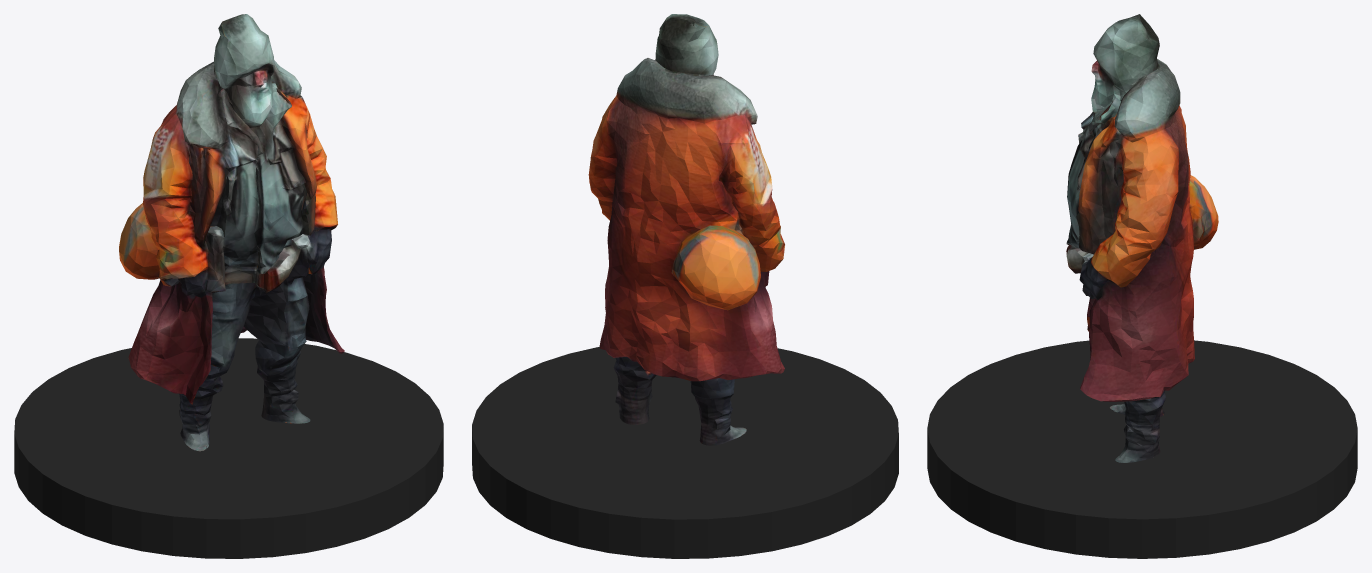
The model's file is rod-miller.glb.
The picture shows the model from 3 angles, left to right: view 1: azimuth 30°, elevation 25°; view 2: azimuth 150°, elevation 25°; view 3: azimuth 270°, elevation 25°; orthographic projection.
Visible parts, largest first — view 1: base, figure; view 2: base, figure; view 3: base, figure.
Part boxes in pixels (bbox=[...]): base: bbox=[14, 338, 443, 558]; figure: bbox=[119, 14, 344, 451]; base: bbox=[472, 347, 898, 558]; figure: bbox=[588, 14, 784, 445]; base: bbox=[927, 340, 1357, 558]; figure: bbox=[1066, 14, 1218, 462].
Bounding box in the file's own units: 1.18 × 1.37 × 1.18.
Materials: 2 (1 with a texture image).
